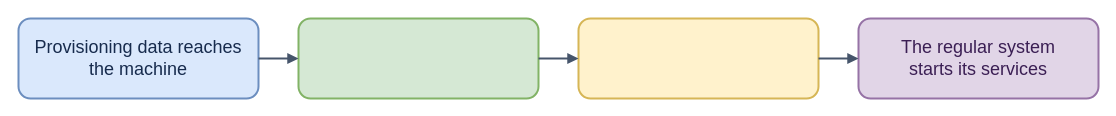
Image size: 1116x116. Some labels were removed from this diagram. Here are the shapes that lost their labels. From the top down, the centre of each, then its label:
[418,58]: Ignition runs before normal boot
[698,58]: Files, users, storage, and units are prepared
